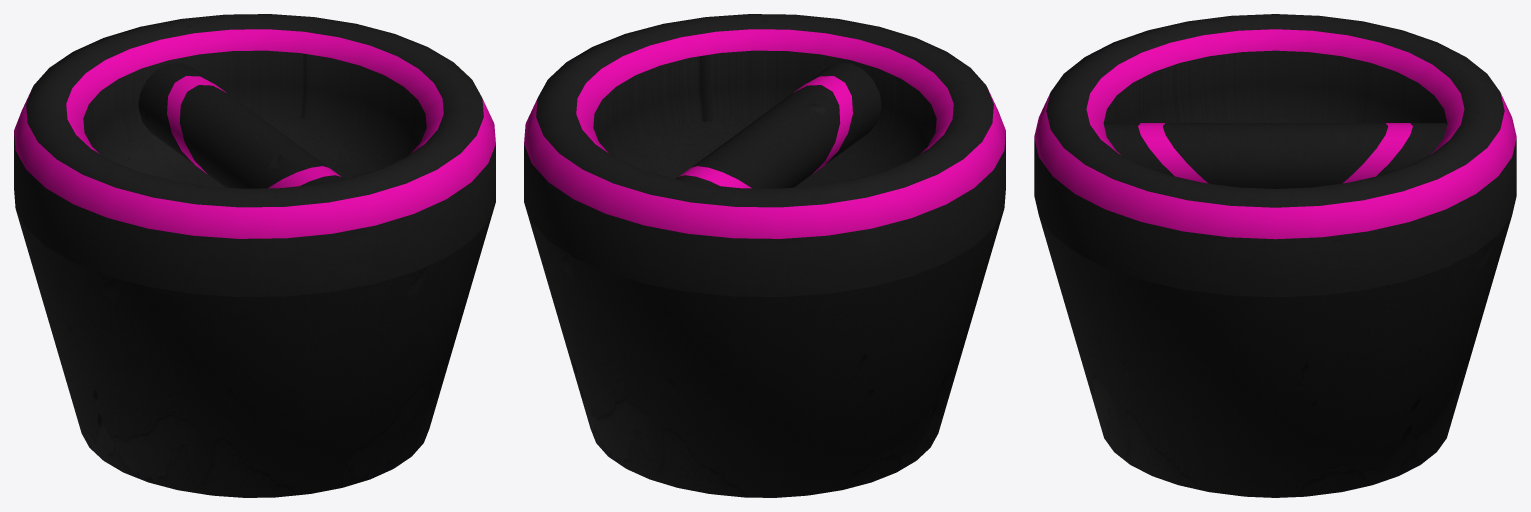
The model's file is Thruster.fbx.
The picture shows the model from 3 angles, left to right: view 1: azimuth 30°, elevation 25°; view 2: azimuth 150°, elevation 25°; view 3: azimuth 270°, elevation 25°; orthographic projection.
Visible parts, largest first — view 1: Thruster; view 2: Thruster; view 3: Thruster.
Boxes of the visible parts, x1,y1,x2,y2 form: Thruster: [14, 14, 495, 497]; Thruster: [524, 14, 1005, 497]; Thruster: [1034, 14, 1516, 497].
Bounding box in the file's own units: 0.2 × 0.151 × 0.2.
